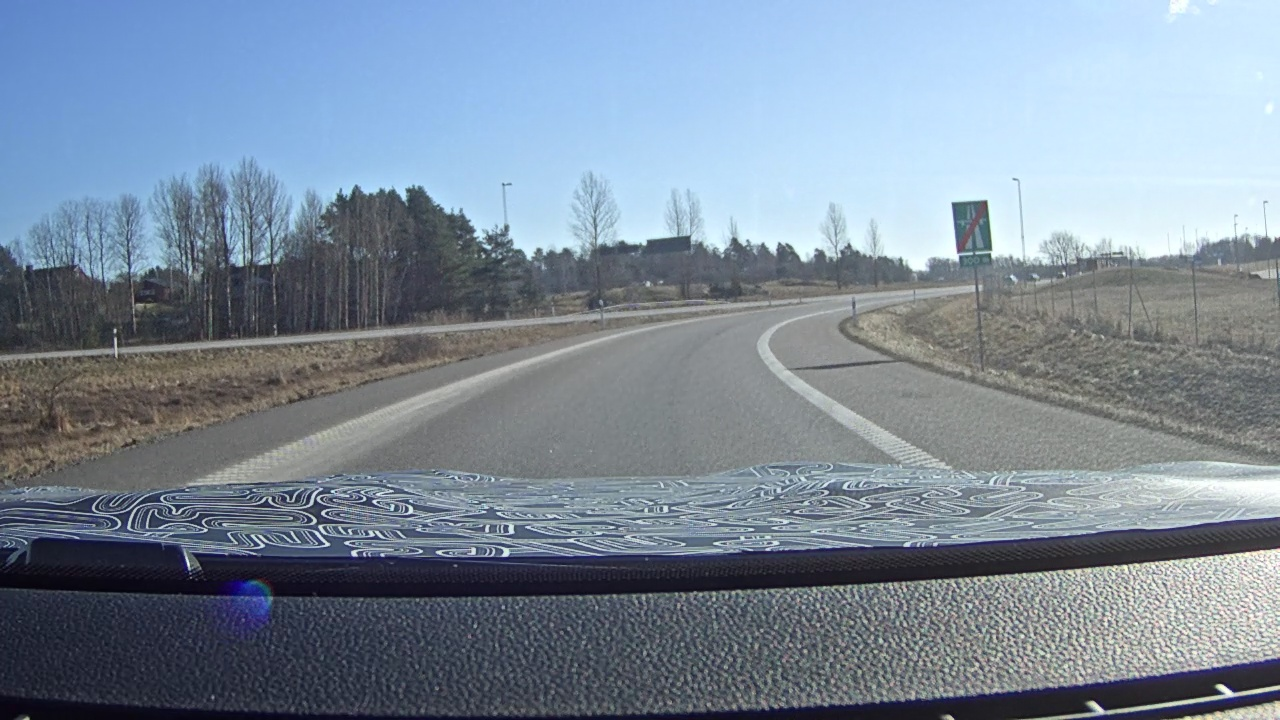Regular_End_Of_Motorway: (952, 199, 991, 255)
